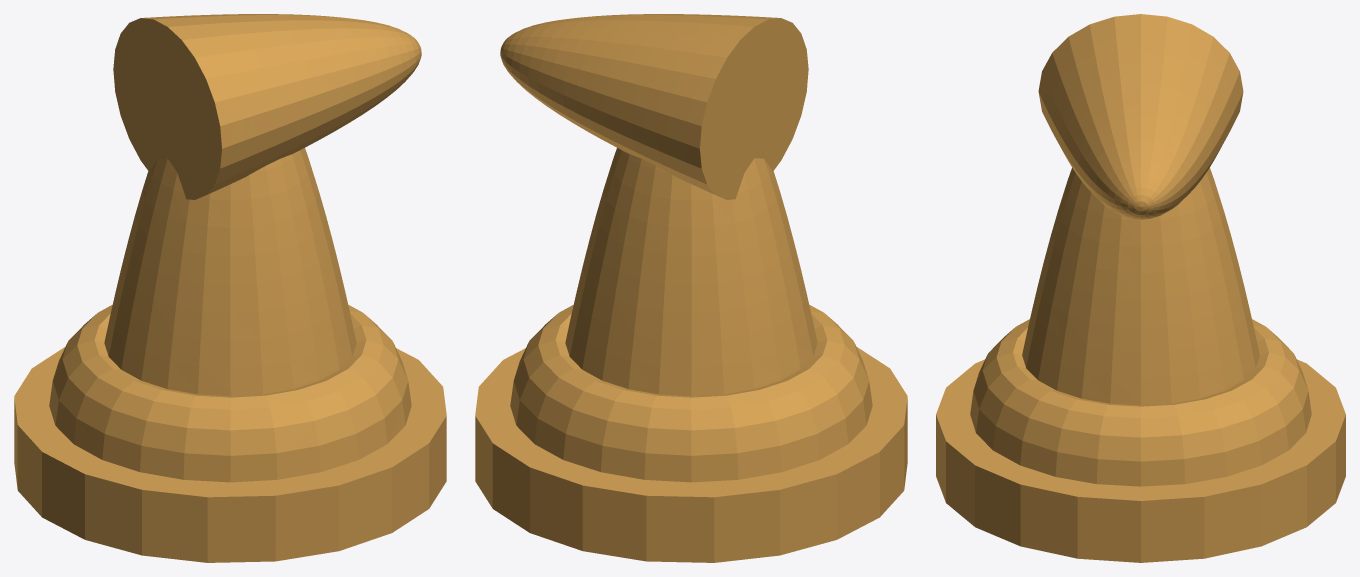
The model's file is knight.glb.
3 views of the same model, side by side, from view 1: azimuth 30°, elevation 25°; view 2: azimuth 150°, elevation 25°; view 3: azimuth 270°, elevation 25° (orthographic). The views are drawn at different scales.
Visible parts, largest first — view 1: Mesh_Mesh_head_geo.001_lambert2SG.001; view 2: Mesh_Mesh_head_geo.001_lambert2SG.001; view 3: Mesh_Mesh_head_geo.001_lambert2SG.001.
Part boxes in pixels (x1=…): Mesh_Mesh_head_geo.001_lambert2SG.001: x1=14, y1=14, x2=446, y2=562; Mesh_Mesh_head_geo.001_lambert2SG.001: x1=475, y1=14, x2=907, y2=562; Mesh_Mesh_head_geo.001_lambert2SG.001: x1=936, y1=14, x2=1345, y2=562.
Size of the model in its own units: 12 by 14 by 12.
